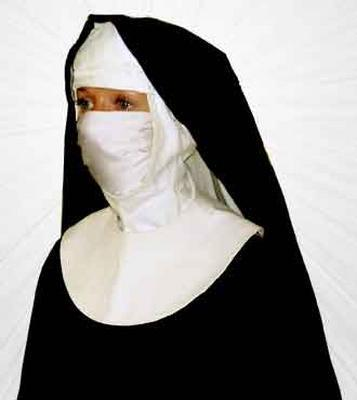OK: (73, 83, 162, 176)
